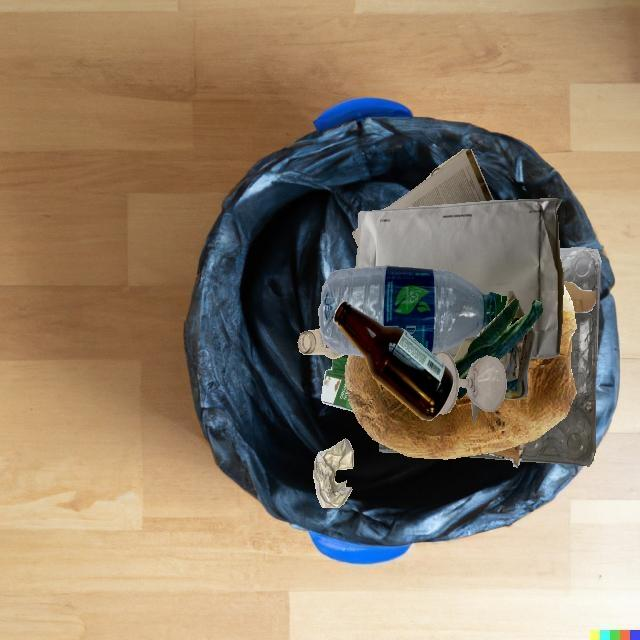biowaste: (344, 283, 576, 459), (455, 299, 543, 379)
cardboard: (321, 354, 354, 412), (563, 281, 596, 313), (486, 443, 525, 467)
glass: (333, 301, 453, 421), (435, 352, 506, 415), (297, 328, 346, 358)
paper: (355, 198, 563, 322), (454, 308, 523, 423), (381, 149, 493, 210), (313, 438, 354, 508)
plastic: (400, 273, 563, 456), (520, 247, 601, 466), (319, 266, 507, 356)
